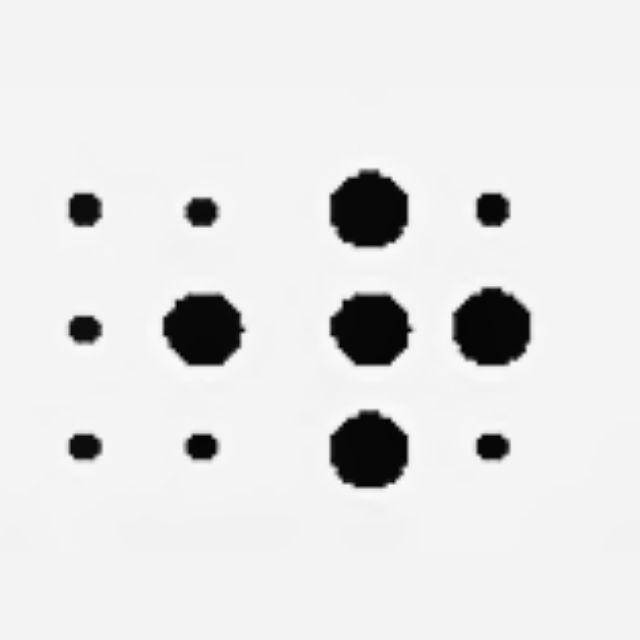dot_5: (47, 173, 245, 485)
roon: (330, 170, 529, 489)
